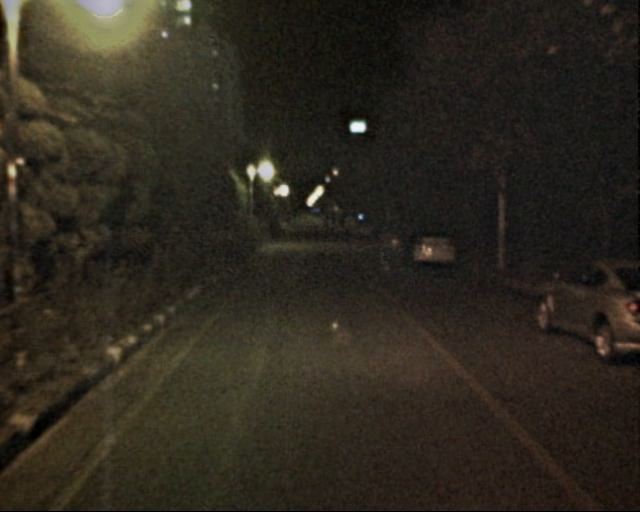person: (396, 220, 418, 274), (375, 224, 396, 276), (321, 214, 352, 240), (276, 214, 290, 247)
